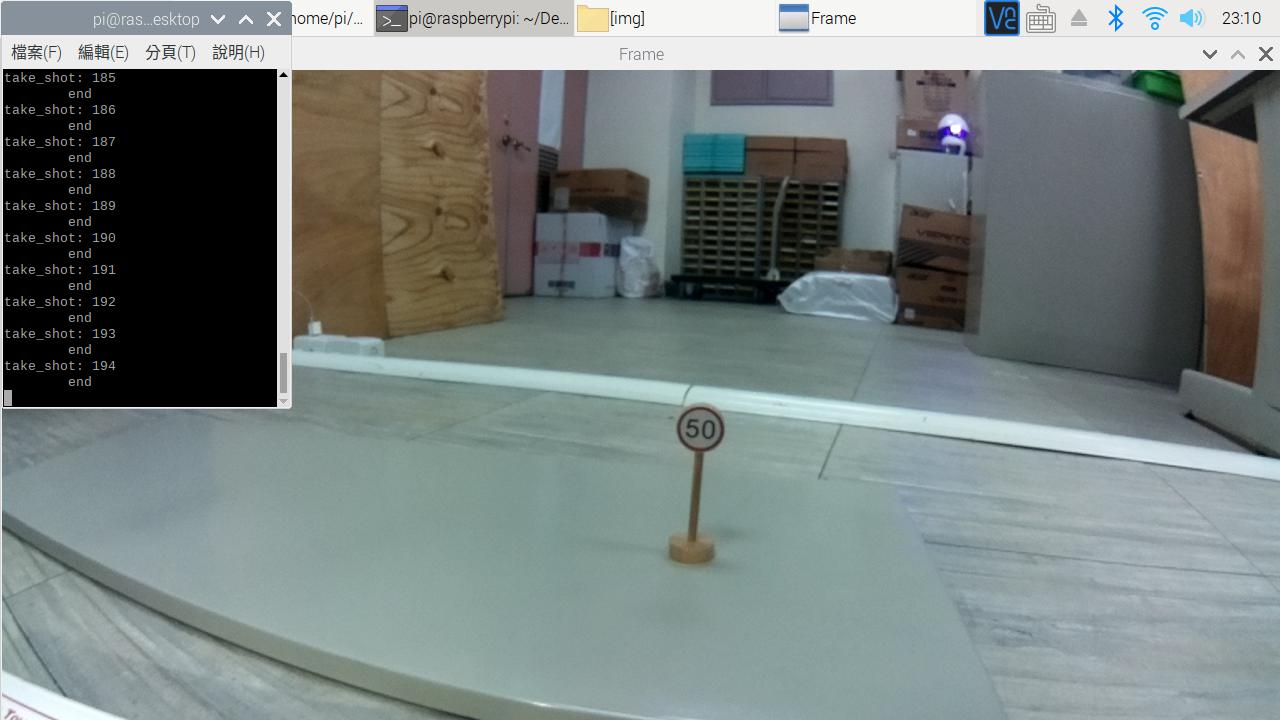Speed50: (669, 408, 739, 465)
